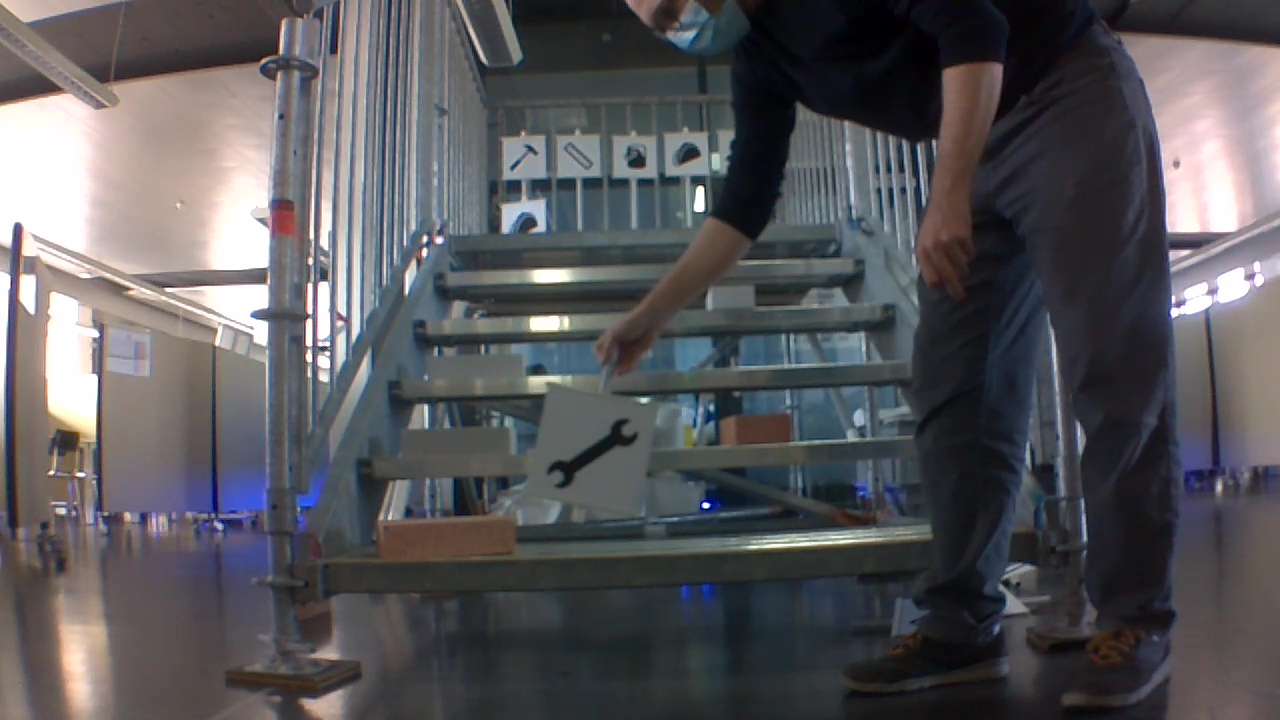brick: (378, 514, 515, 561), (403, 426, 514, 461), (424, 351, 521, 381), (723, 414, 789, 443), (708, 286, 753, 310)
bucket: (618, 139, 651, 172)
edge: (319, 528, 1037, 592), (386, 361, 914, 396)
hammer: (503, 140, 542, 176)
ruler: (559, 141, 595, 173)
taco: (667, 136, 706, 170), (504, 206, 543, 234)
wrench: (538, 410, 644, 494)
